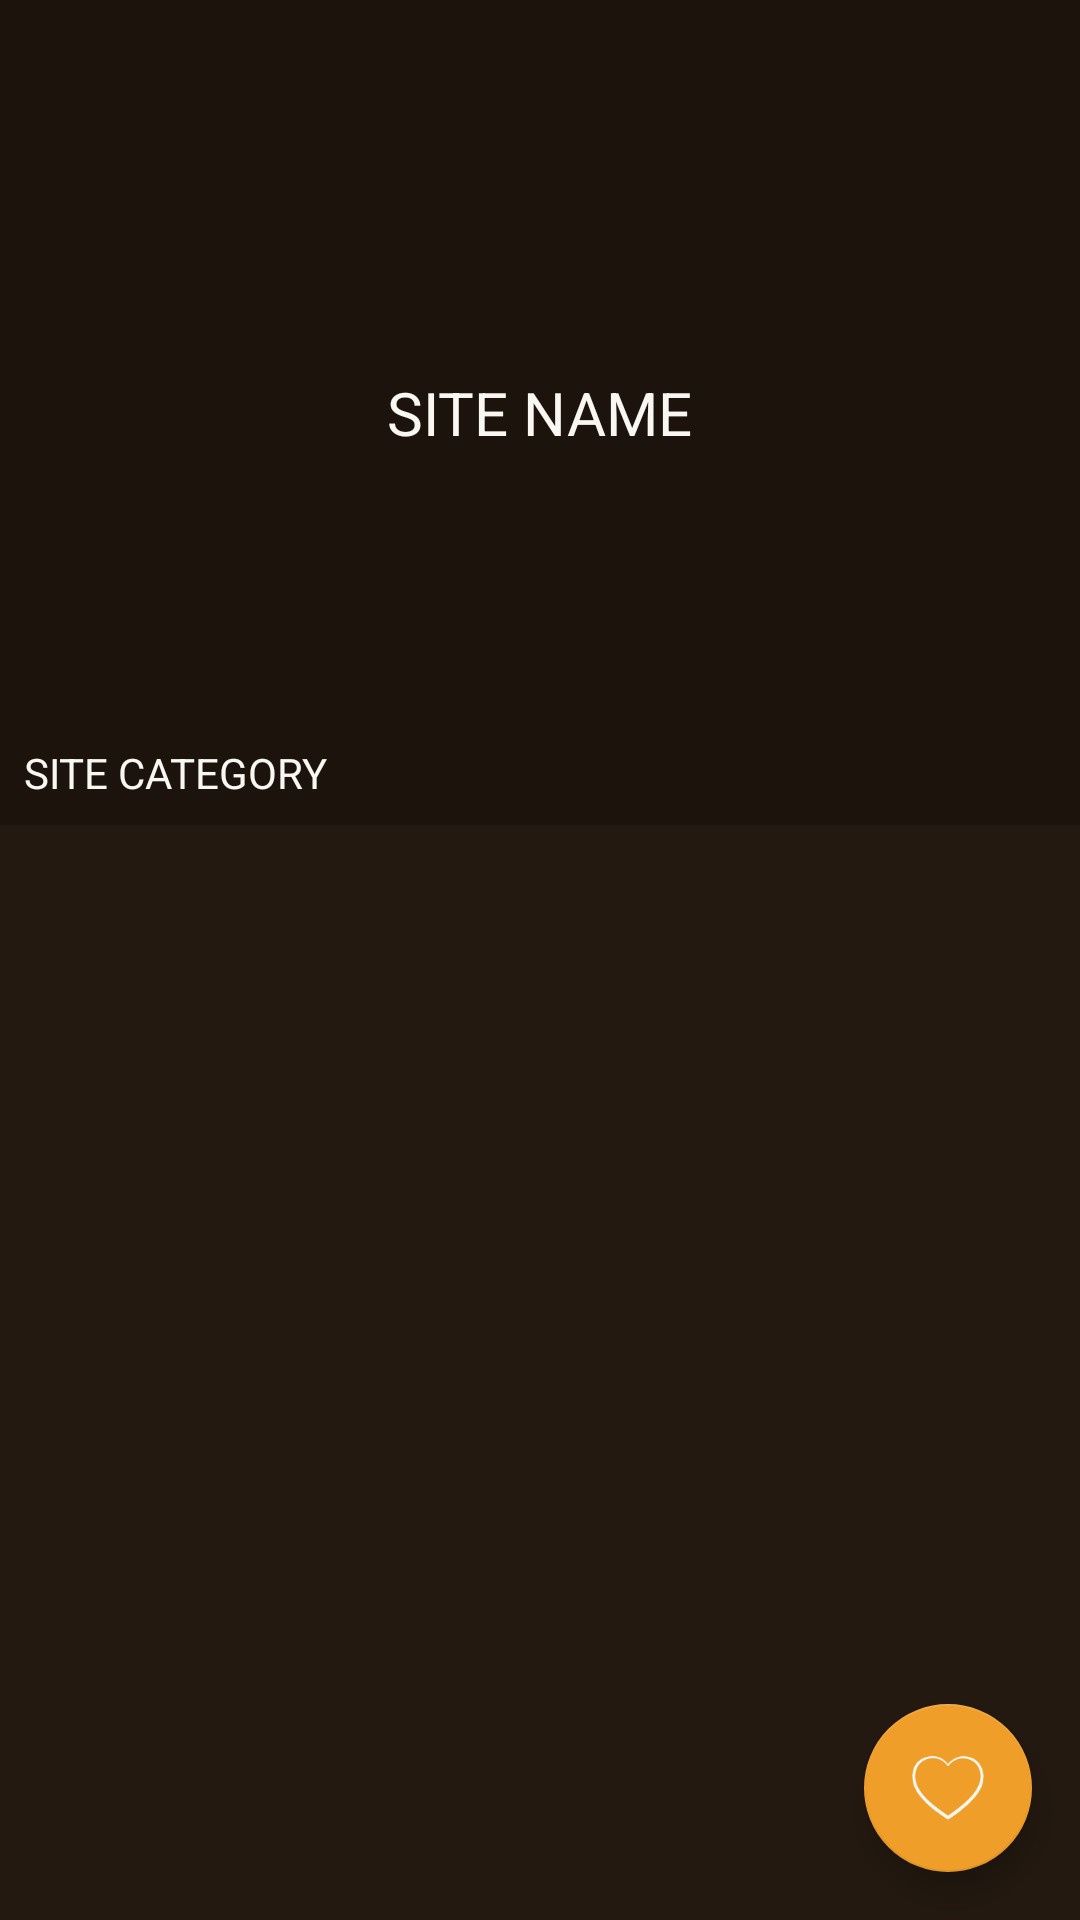

Named icons in this screenshot (1080 × 1920) and their centers, (x=x, y=y):
heart creamy: (x=948, y=1788)
